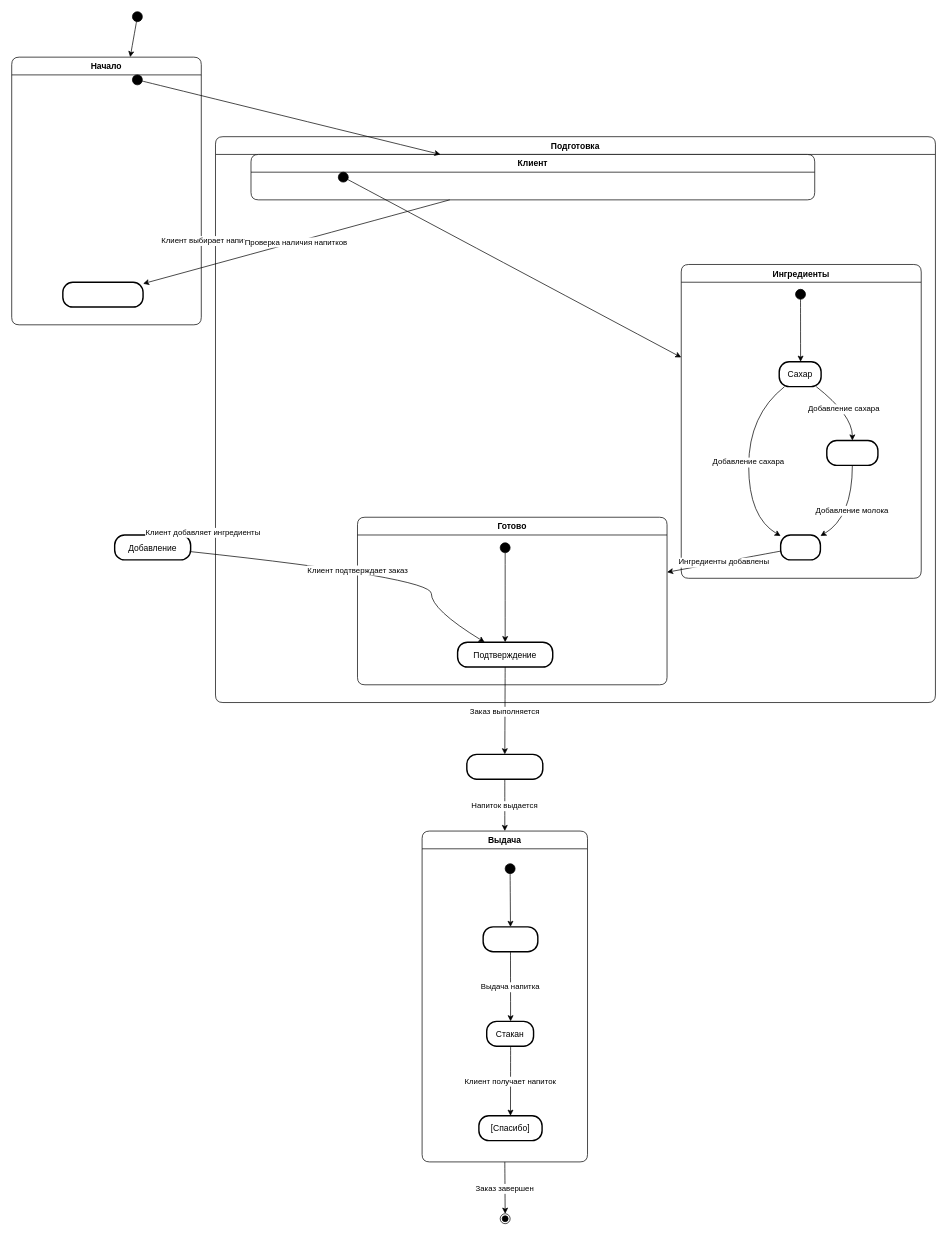
The diagram is 947 pixels wide and 1235 high, and some of its shapes have lost their labels. Here are the shapes that lost their labels. From the top down, the centre of each, then its label:
At (102,294): "Ассортимент".
At (852,452): "Молоко".
At (800,547): "Кофе".
At (504,766): "Выполнение".
At (510,939): "Напиток".
